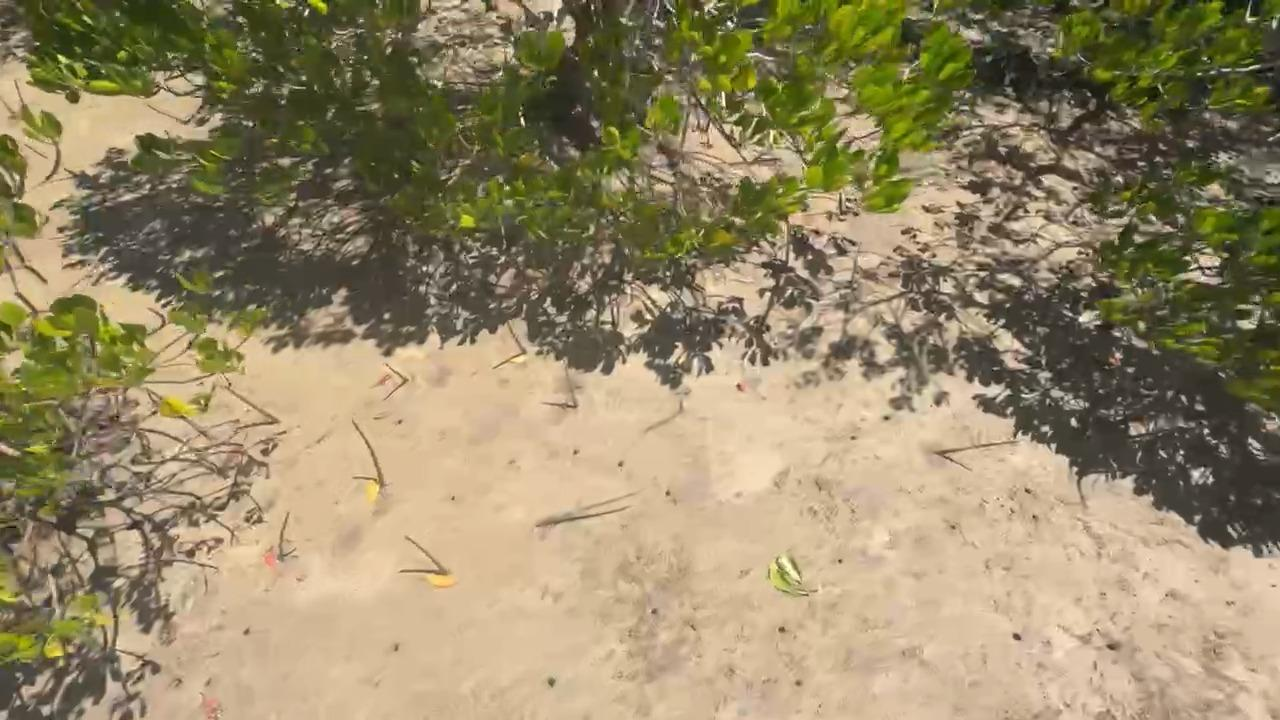Tree: (537, 490, 637, 527), (352, 421, 385, 484), (225, 388, 281, 424), (405, 536, 449, 576), (938, 438, 1018, 455), (562, 365, 580, 409), (276, 511, 292, 560), (507, 320, 527, 354), (384, 364, 409, 381)
